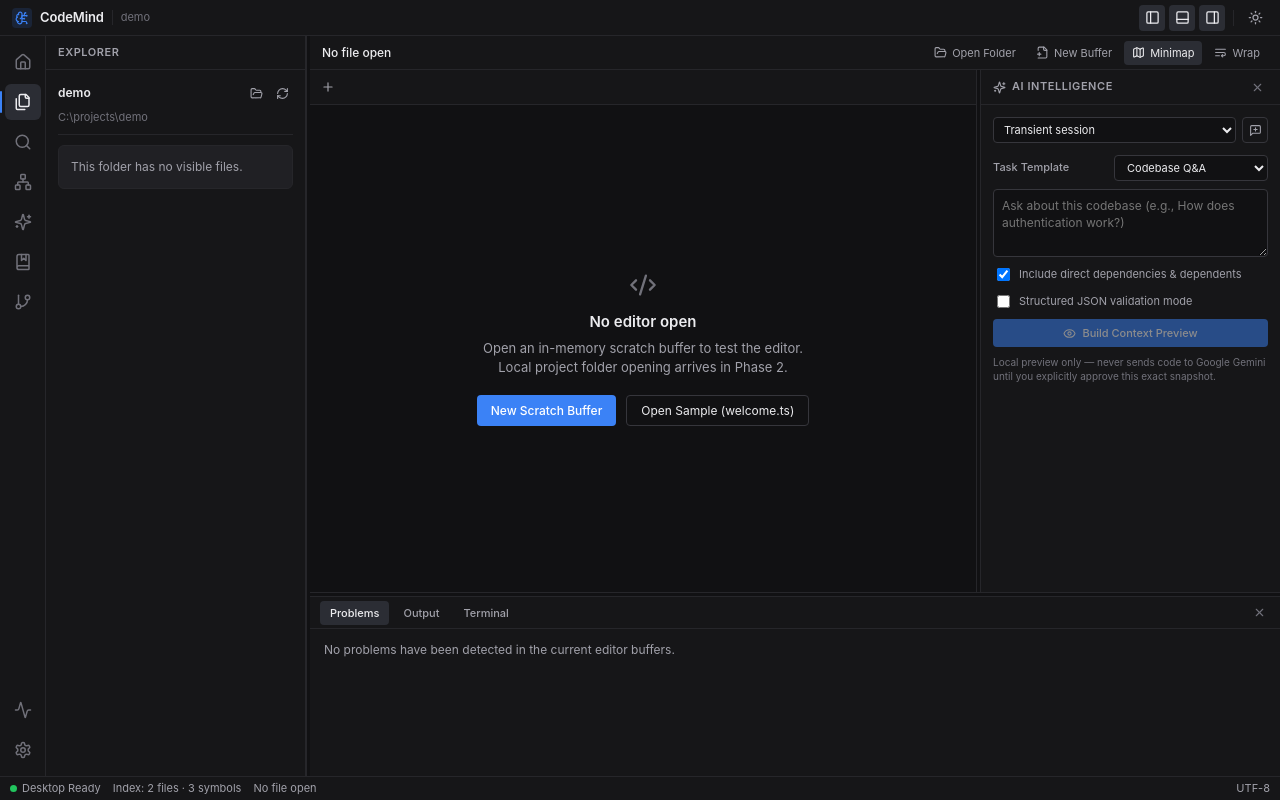
Test case: Phase 4 Architecture Explorer & Source Navigation › displays overview metrics, inspects file/symbol relationships, and navigates to Monaco line
The image size is (1280, 800).
Later steps or results of the test are not shown.
Click the button named "Codebase Graph". click: (22, 182)
box: [4, 164, 40, 200]
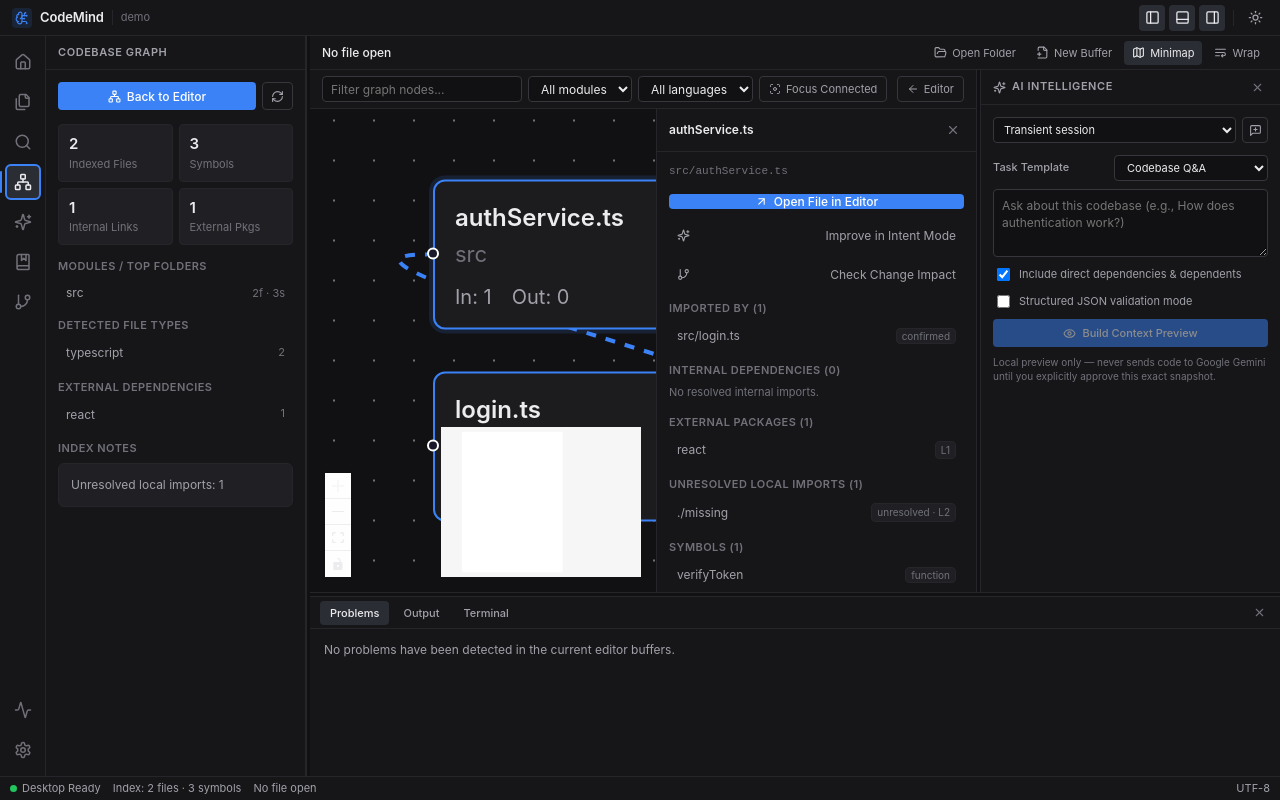
Result: the element with test id "architecture-overview-panel" is shown at [58, 82, 293, 507]
Result: the text with test id "overview-total-files" reads "2" at [69, 134, 78, 153]
Result: the text with test id "overview-total-symbols" reads "3" at [190, 134, 199, 153]
